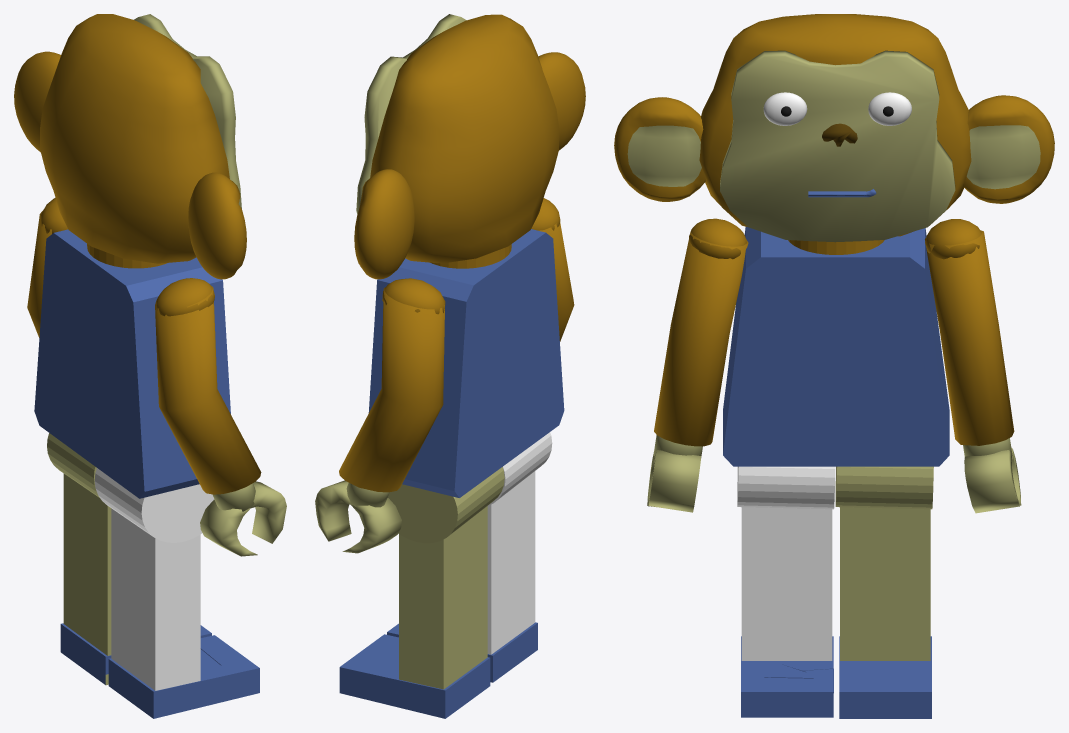
File: lego MACACO.fbx
3 renders of one model, left to right at view 1: azimuth 30°, elevation 25°; view 2: azimuth 150°, elevation 25°; view 3: azimuth 270°, elevation 25°, orthographic. The views are drawn at different scales.
Parts seen in each view (by area): view 1: Esfera UV.001, Cubo, Cube.002, Cubo.002_Cubo.005, Cubo.003_Cubo.004; view 2: Esfera UV.001, Cubo, Cube.002, Cubo.003_Cubo.004, Cubo.002_Cubo.005; view 3: Esfera UV.001, Cube.002, Cubo, Cubo.003_Cubo.004, Cubo.002_Cubo.005, Esfera UV.002, Esfera UV.
Boxes of the visible parts, x1,y1,x2,y2 form: Esfera UV.001: (14, 14, 246, 279); Cubo: (47, 433, 259, 718); Cube.002: (34, 229, 230, 498); Cubo.002_Cubo.005: (155, 278, 286, 556); Cubo.003_Cubo.004: (27, 197, 67, 337); Esfera UV.001: (354, 14, 585, 279); Cubo: (339, 432, 552, 718); Cube.002: (368, 229, 564, 497); Cubo.003_Cubo.004: (315, 278, 445, 553); Cubo.002_Cubo.005: (531, 198, 574, 341); Esfera UV.001: (614, 14, 1054, 242); Cube.002: (723, 226, 949, 466); Cubo: (737, 466, 933, 718); Cubo.003_Cubo.004: (925, 219, 1021, 513); Cubo.002_Cubo.005: (647, 218, 748, 512); Esfera UV.002: (868, 92, 911, 125); Esfera UV: (763, 92, 807, 125).
Bounding box in the file's own units: 150 × 636 × 382.
